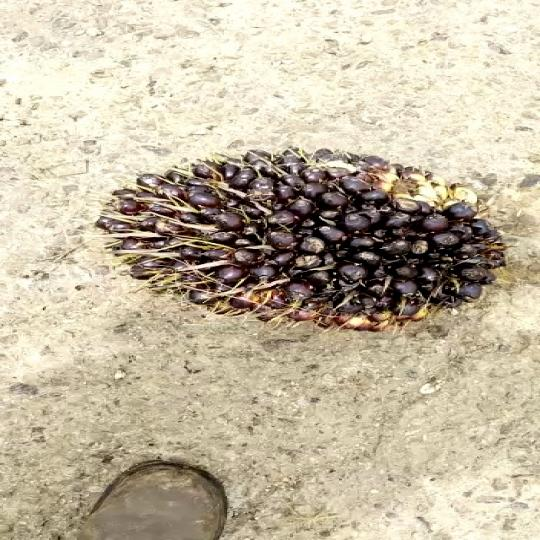mentah: (84, 123, 540, 354)
